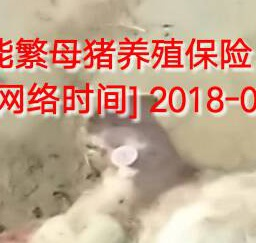text: (94, 127, 150, 180)
